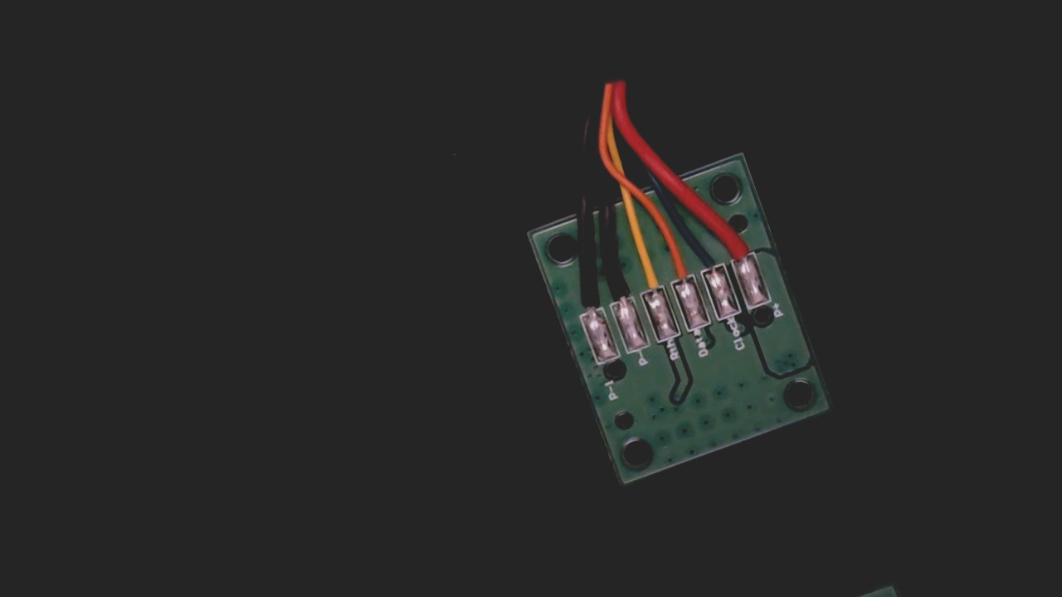Black: (596, 258, 638, 319)
Black1: (568, 275, 607, 330)
Green: (690, 229, 730, 285)
Orange: (660, 239, 699, 296)
Red: (715, 209, 758, 272)
Yellow: (627, 246, 668, 308)
